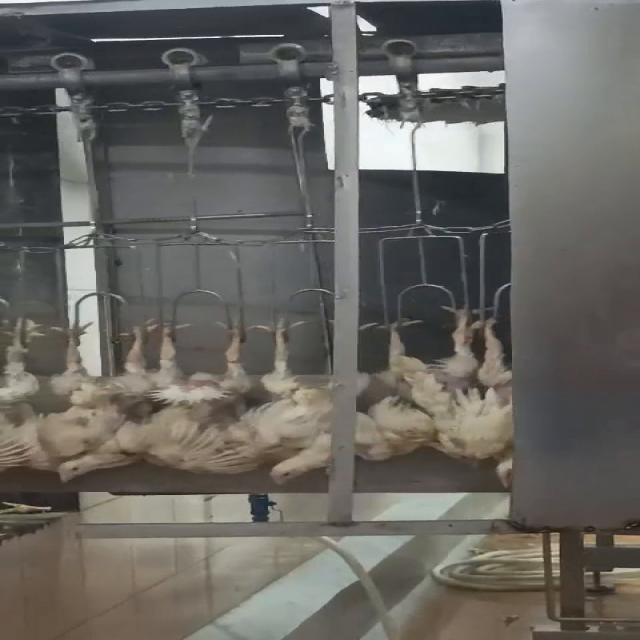chicken: (36, 307, 170, 487), (356, 302, 486, 464), (144, 312, 245, 478), (240, 313, 336, 484), (0, 311, 53, 472), (486, 307, 516, 491)
